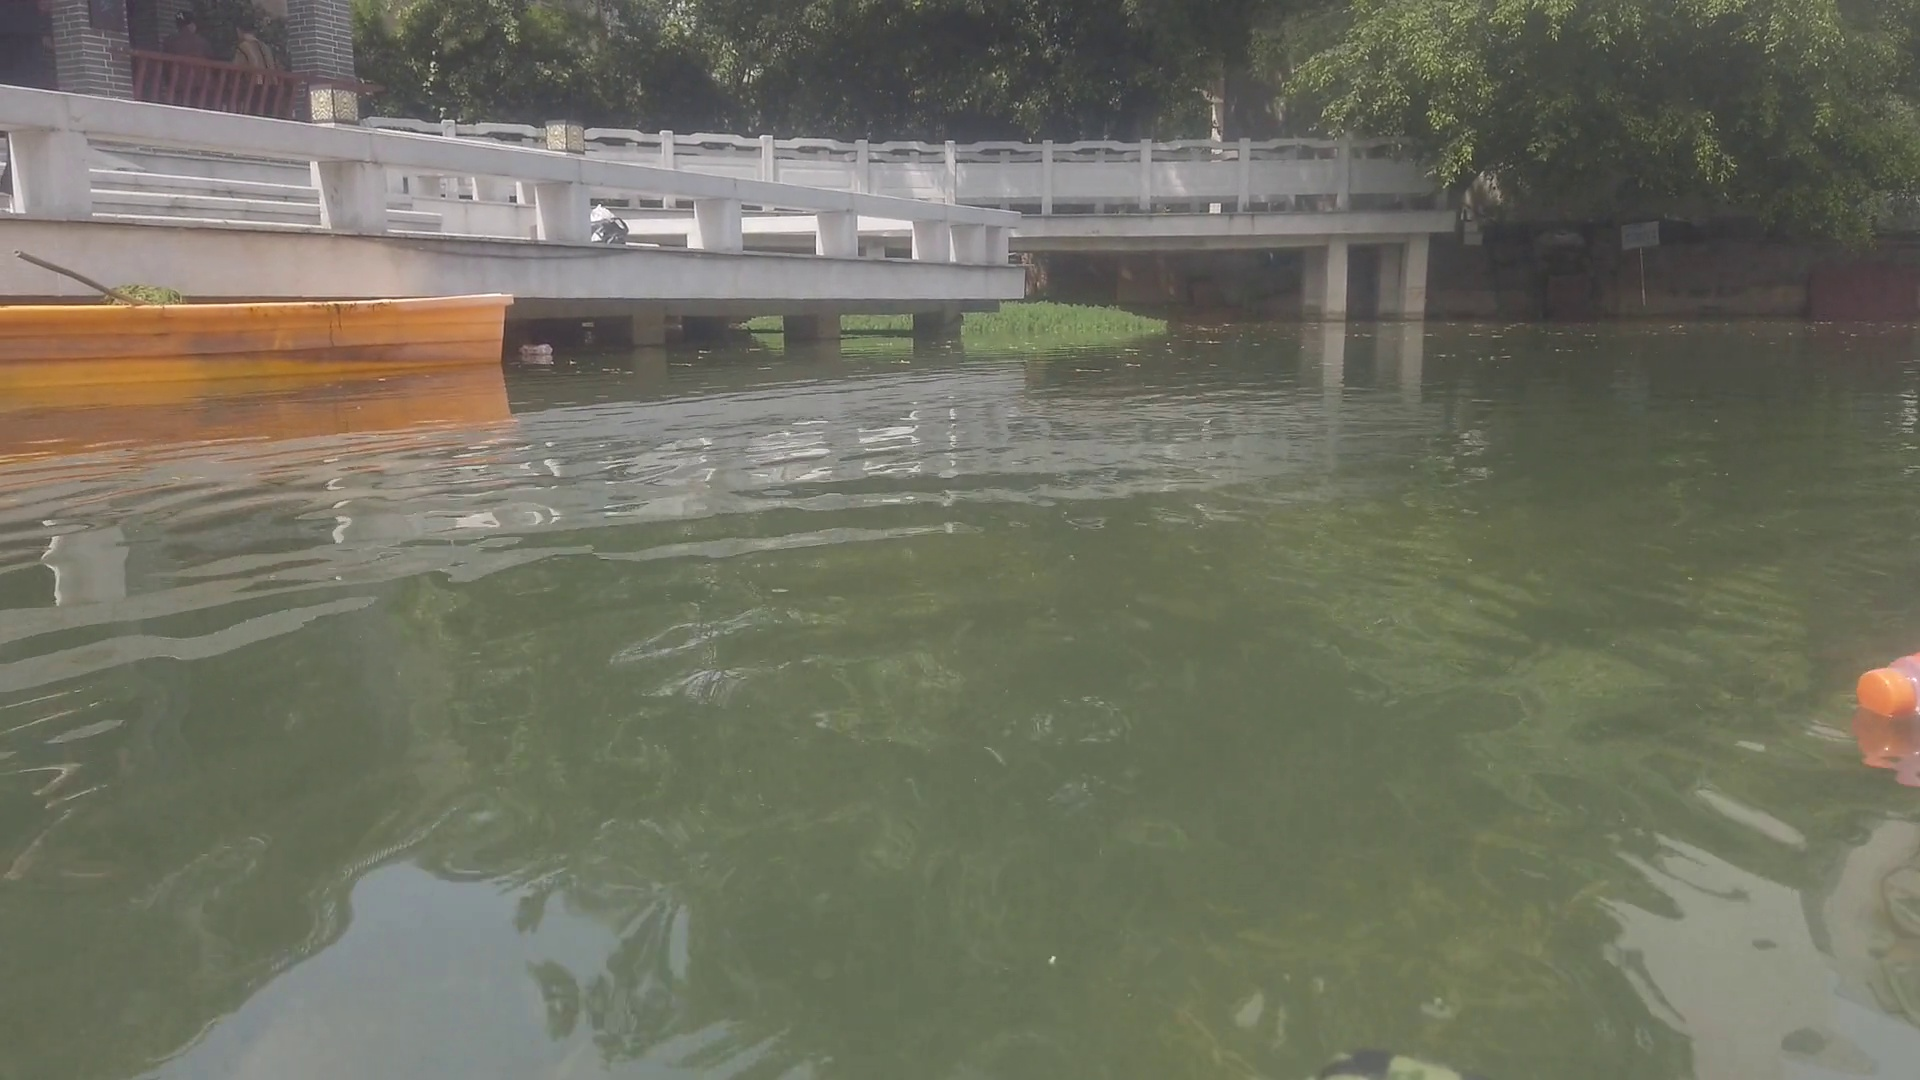bottle: (1853, 640, 1920, 715), (516, 342, 554, 357)
